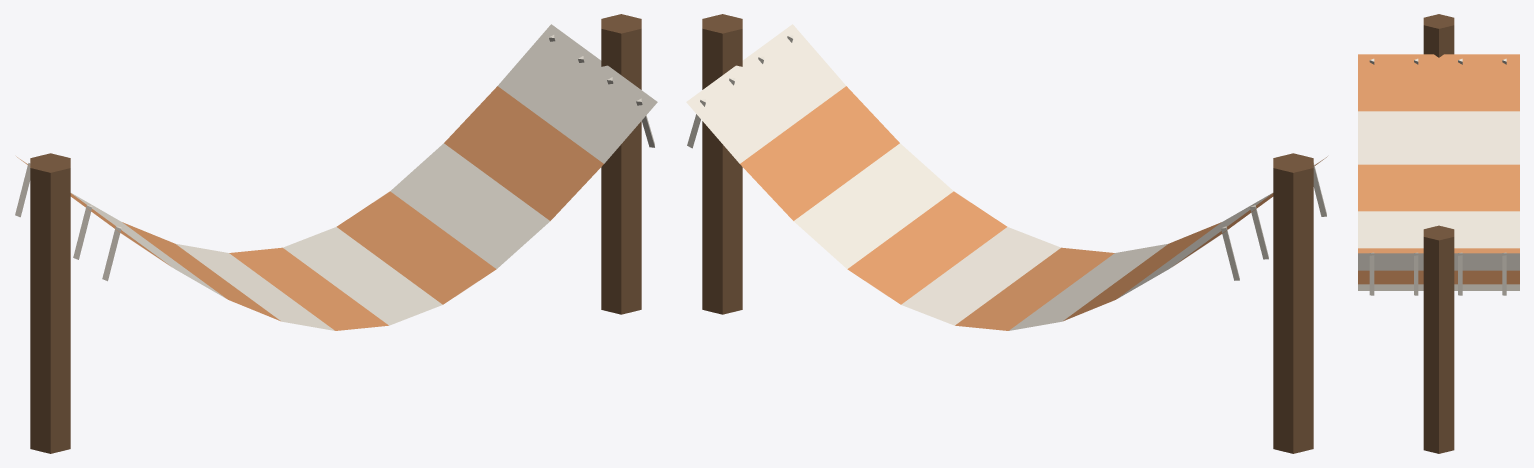
The model's file is xy_isle_hammock.glb.
The picture shows the model from 3 angles, left to right: view 1: azimuth 30°, elevation 25°; view 2: azimuth 150°, elevation 25°; view 3: azimuth 270°, elevation 25°; orthographic projection. The views are drawn at different scales.
Visible parts, largest first — view 1: Hammock; view 2: Hammock; view 3: Hammock.
Part boxes in pixels (x1,y1,x2,y2): Hammock: [15, 14, 657, 453]; Hammock: [686, 14, 1327, 453]; Hammock: [1358, 14, 1519, 453].
Bounding box in the file's own units: 3.64 × 1.6 × 1.1.
